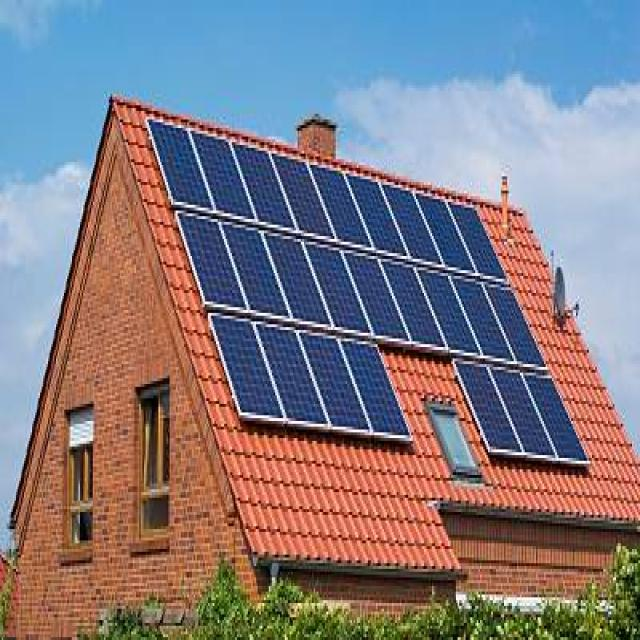clean-solar-panel: (149, 120, 574, 437)
